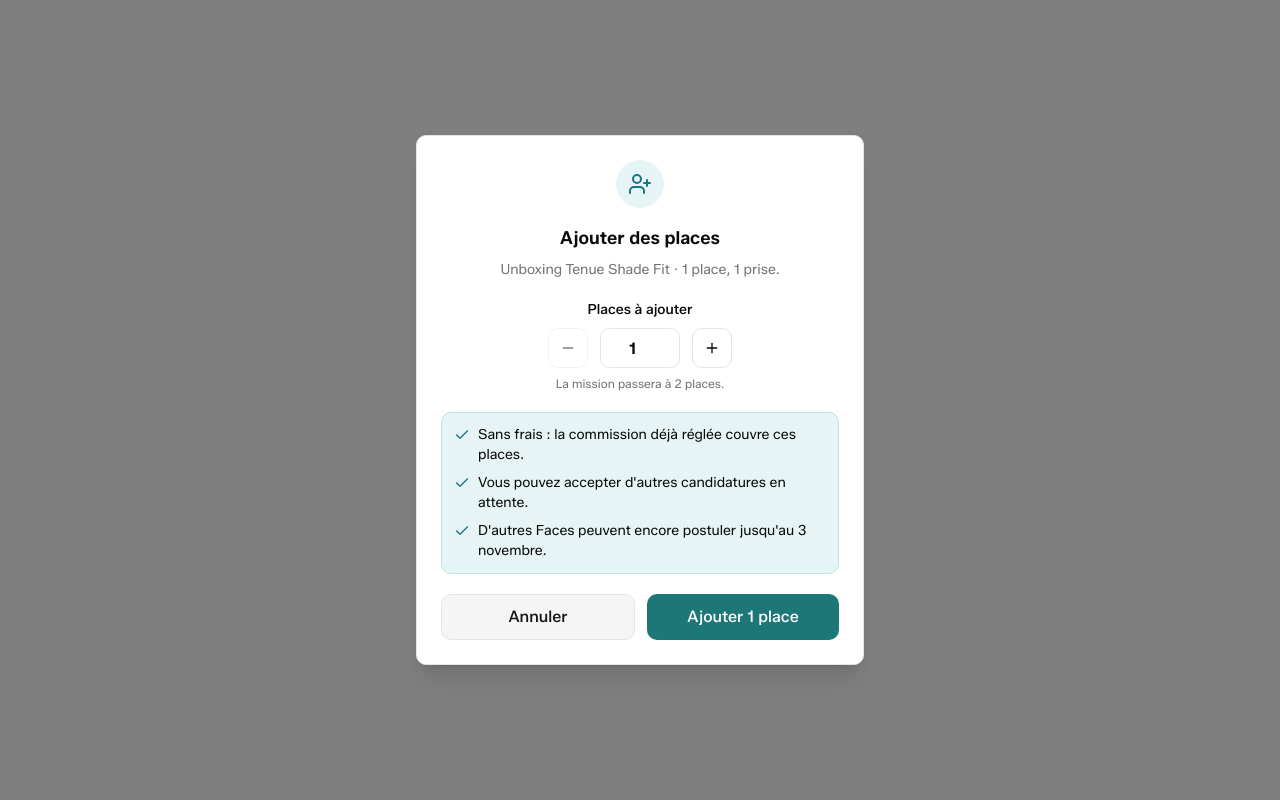
it: AddPlacesDialog › affiche l’erreur de l’API dans la fenêtre et n’émet pas added
This screenshot has width=1280, height=800.
Click the button "Ajouter 1 place".
click(743, 617)  # box [647,594,839,640]
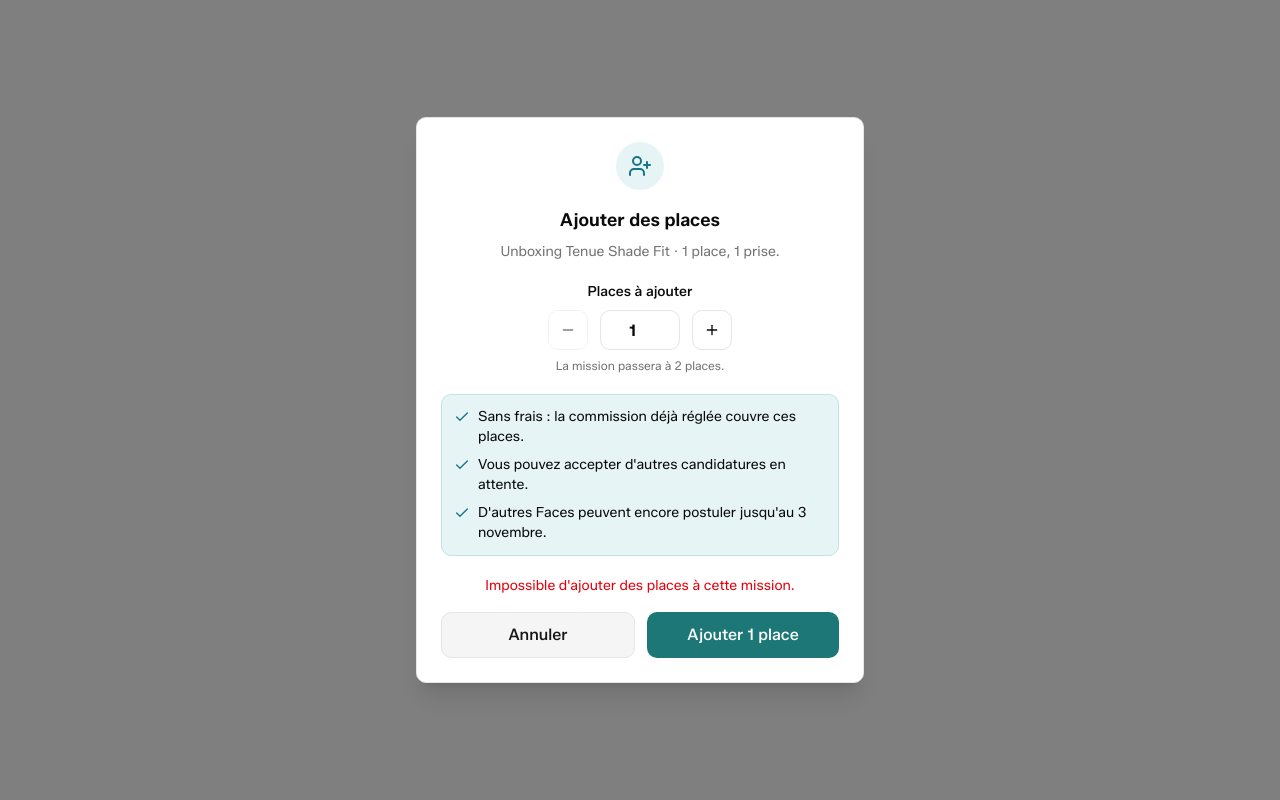
Result: the message "Impossible d'ajouter des places à cette mission." is shown at [485,577,795,594]
